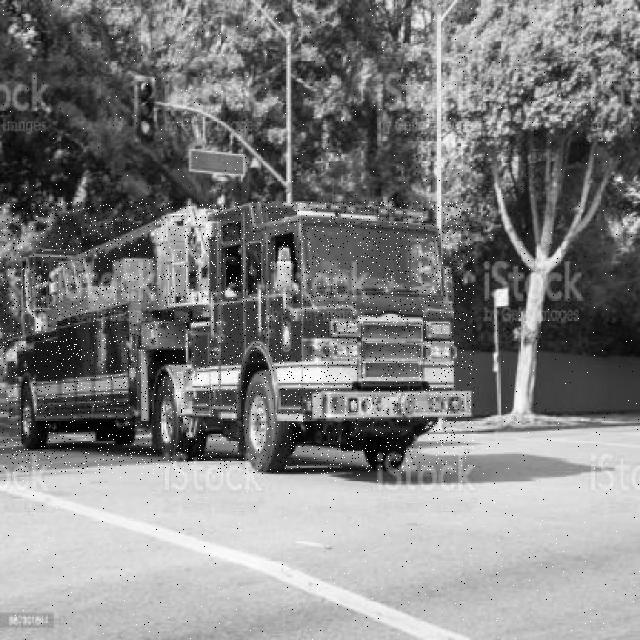Fire Truck: (0, 202, 475, 474)
